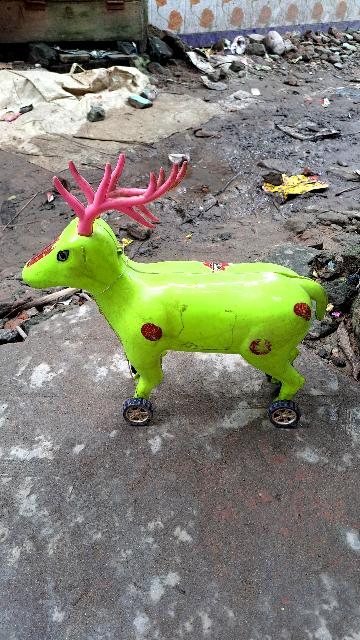hardplastic: (54, 185, 325, 429)
